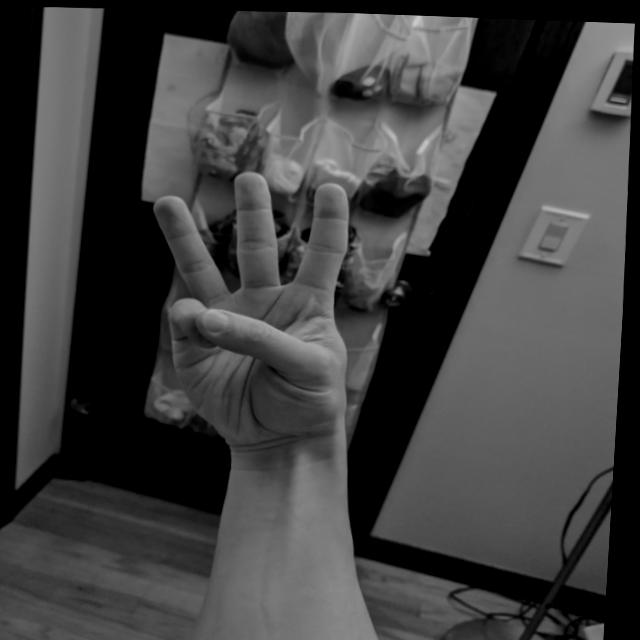W: (138, 159, 373, 452)
